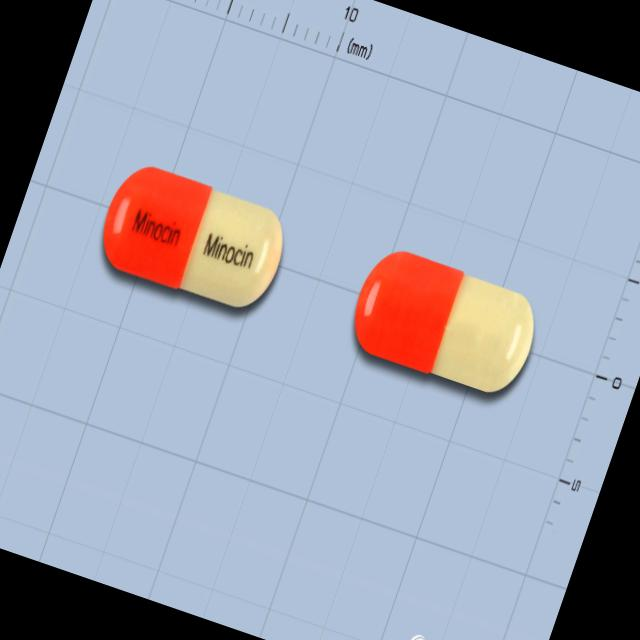Minocin Cap: (90, 154, 296, 320)
